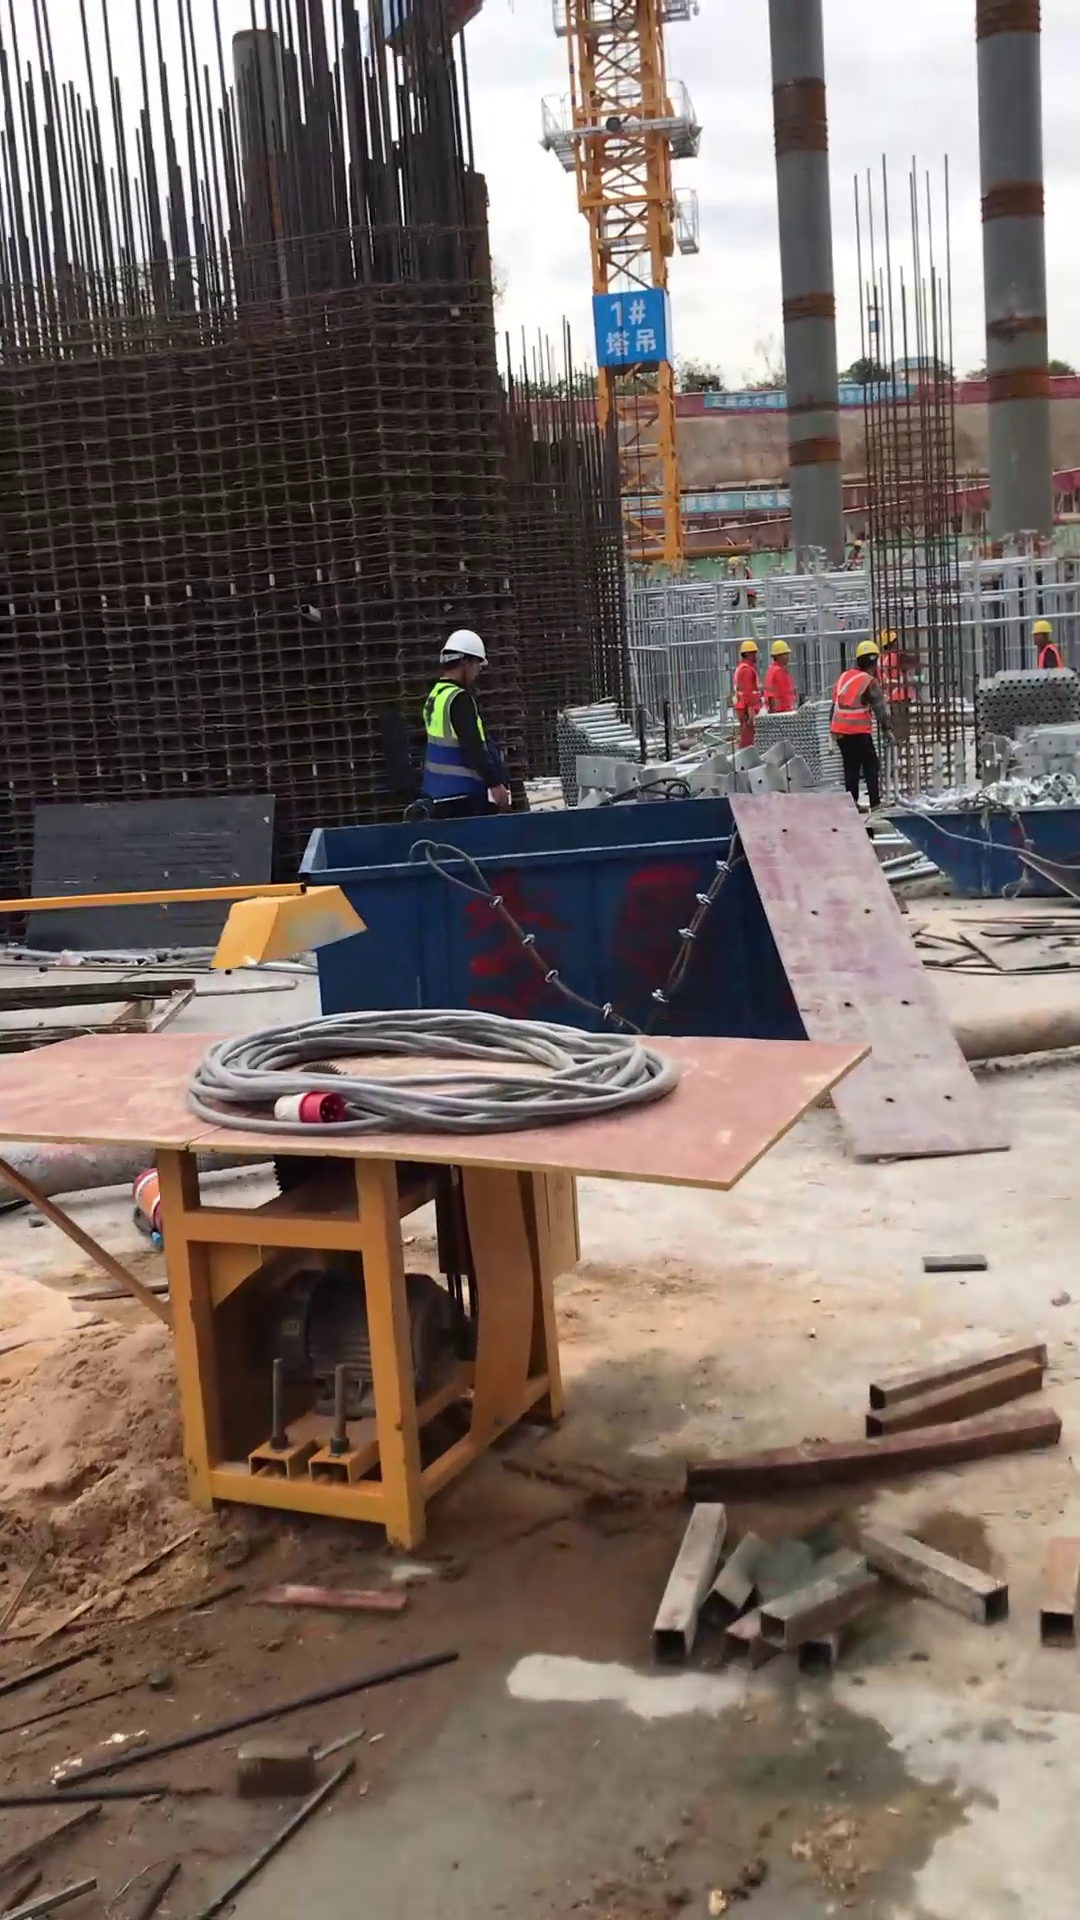helmet: (433, 627, 493, 673), (847, 638, 883, 664), (765, 639, 796, 659), (735, 638, 760, 661), (1031, 618, 1053, 640)
person: (411, 625, 525, 822), (824, 639, 903, 821), (728, 637, 772, 749), (760, 637, 803, 720), (1024, 613, 1067, 686)
vest: (418, 681, 489, 804), (824, 666, 878, 741), (761, 661, 795, 715), (729, 661, 762, 715), (1034, 638, 1062, 677)
